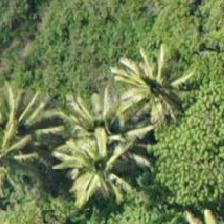coconut_tree: (56, 127, 146, 217), (54, 83, 144, 173), (109, 44, 199, 134), (0, 80, 56, 170)
